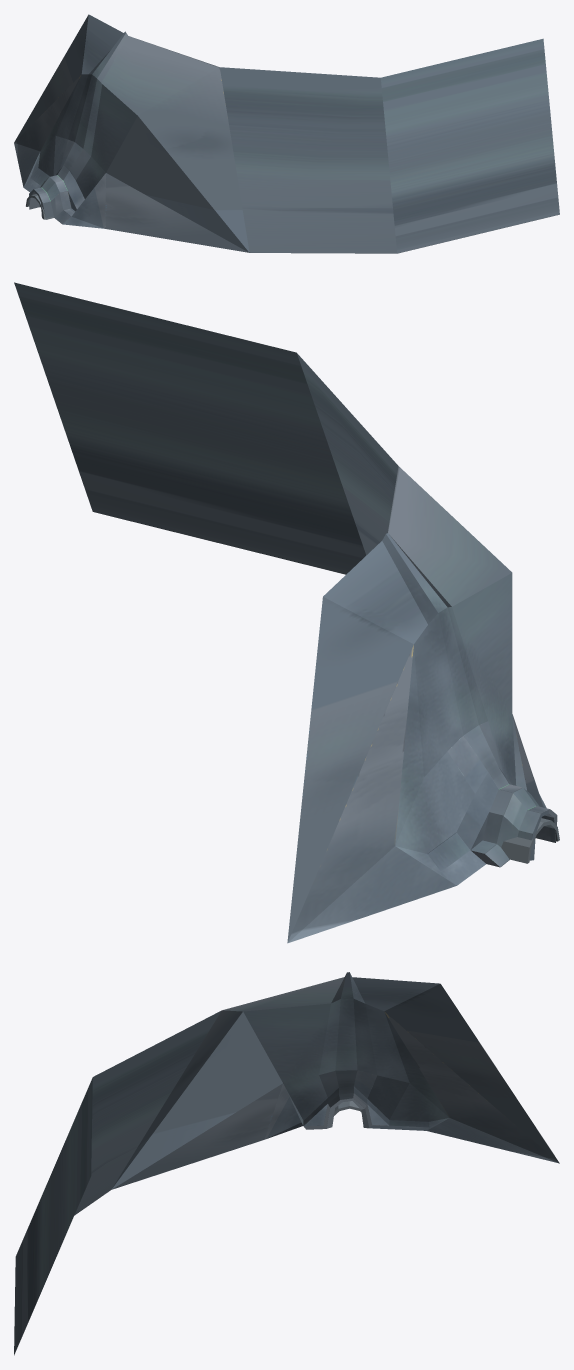
Rendered from entrance.fbx.
3 renders of one model, top to bottom at view 1: azimuth 30°, elevation 25°; view 2: azimuth 150°, elevation 25°; view 3: azimuth 270°, elevation 25°, orthographic. The views are drawn at different scales.
Parts seen in each view (by area): view 1: tube; view 2: tube, tube_1; view 3: tube.
Part boxes in pixels (box(x1,y1,x2,y2)): tube: box(14, 14, 559, 253); tube: box(14, 282, 557, 943); tube_1: box(501, 818, 559, 863); tube: box(14, 972, 559, 1355).
Bounding box in the file's own units: 316 × 124 × 293.
